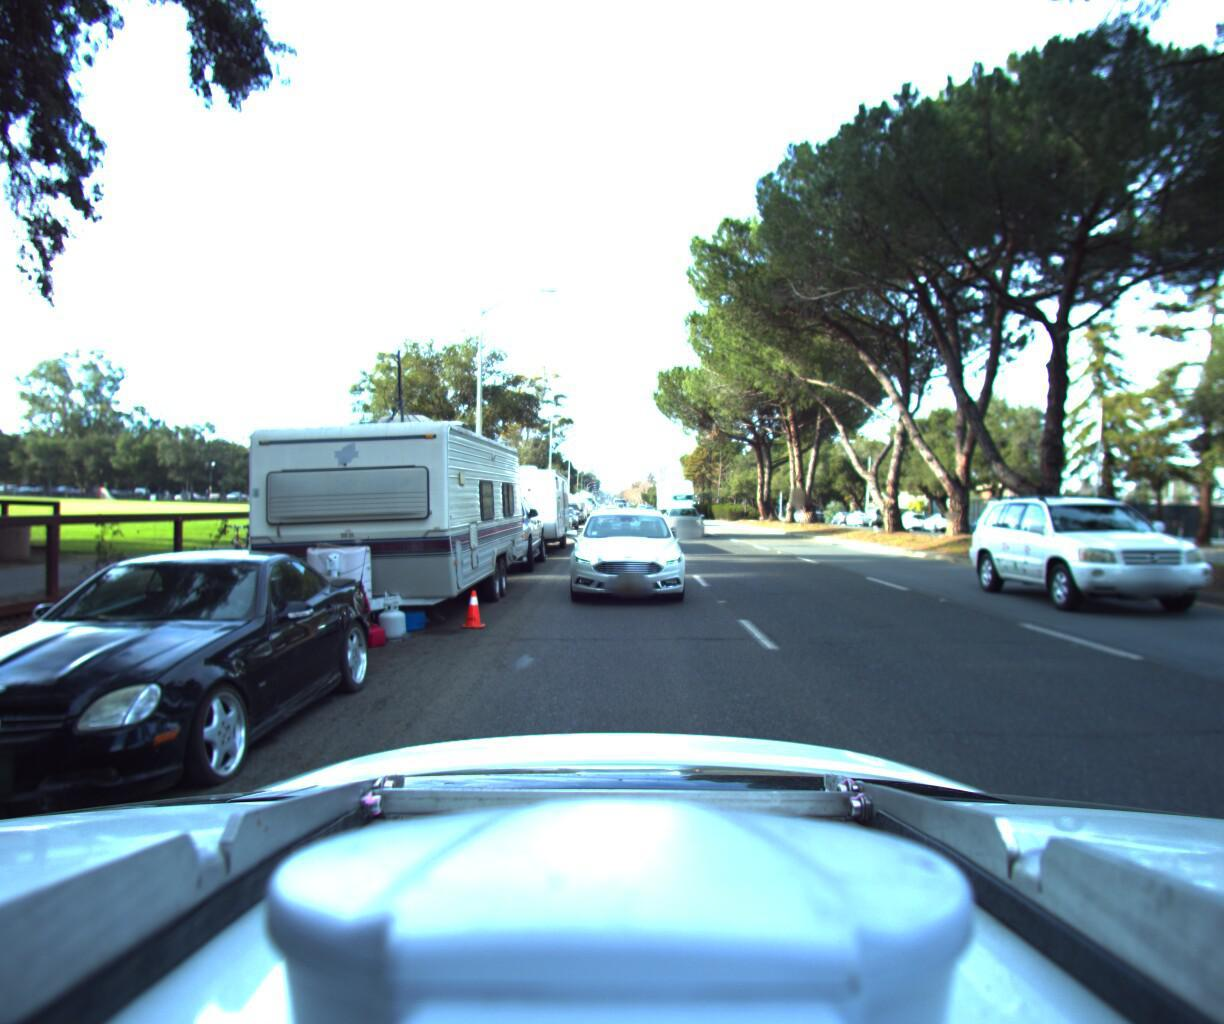car: (989, 487, 1224, 635), (557, 502, 683, 607), (428, 484, 554, 575), (662, 499, 706, 533), (963, 509, 1019, 533), (916, 506, 963, 528), (550, 498, 580, 526), (891, 504, 929, 526), (840, 505, 871, 522)
other_vehicle: (189, 379, 532, 648), (461, 451, 577, 555), (549, 486, 589, 519)
truck: (654, 471, 699, 515)
